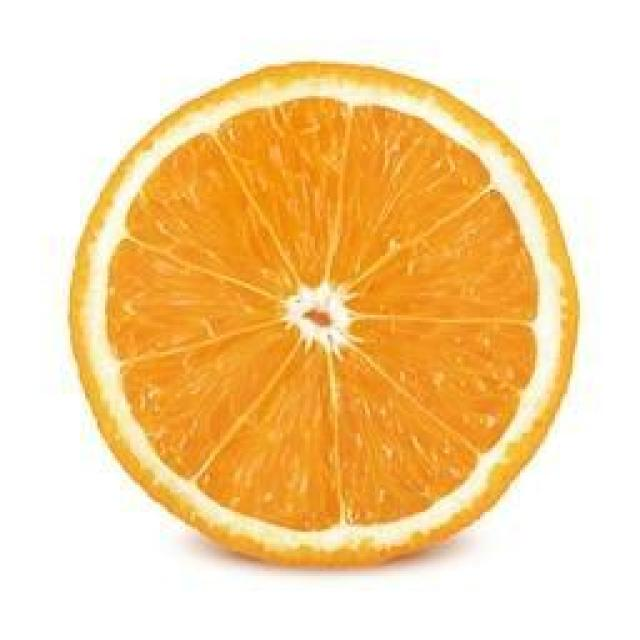orange: (56, 51, 588, 575)
